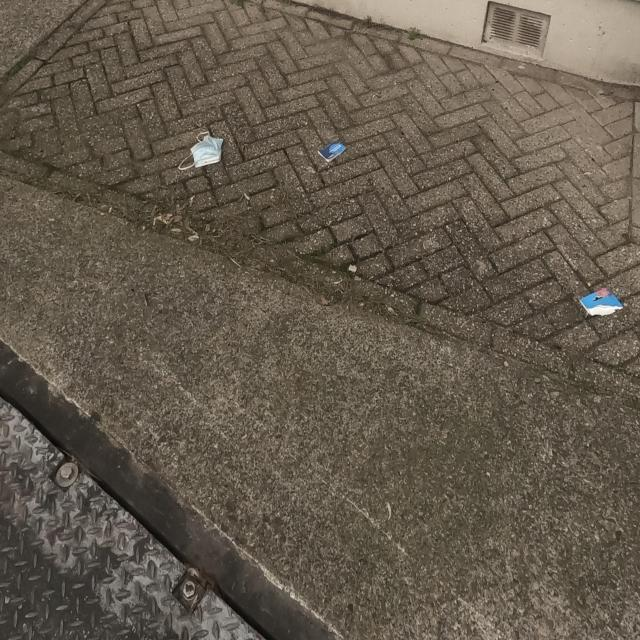Mask: (184, 130, 222, 168)
